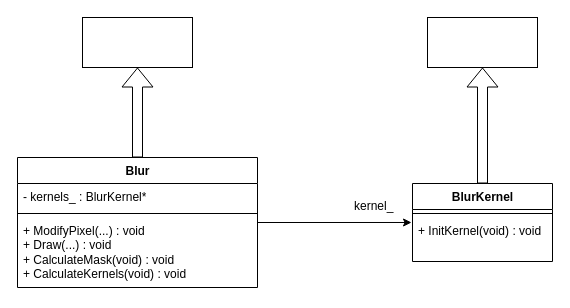
Some shapes in this 570 by 308 pixel diagram are drawn without their labels. Here are the shapes that lost their labels. From the top down, the centre of each, then its label:
At pixel 137 42: "Tool".
At pixel 482 42: "Kernel".
